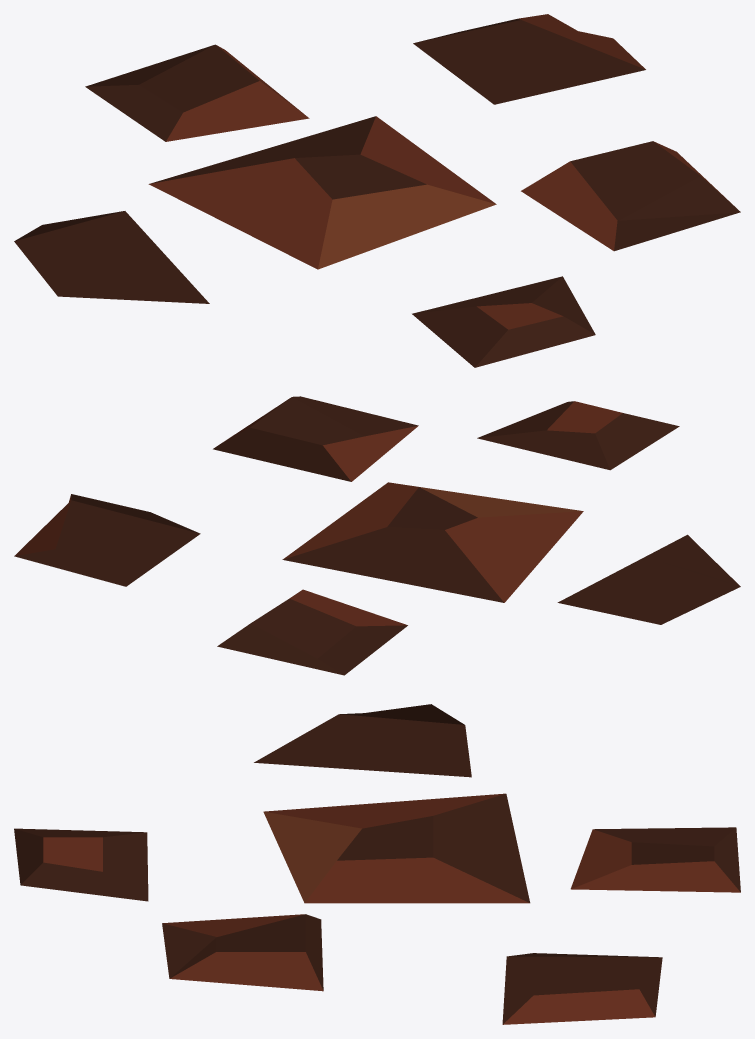
Rendered from RandomRock.fbx.
3 renders of one model, top to bottom at view 1: azimuth 30°, elevation 25°; view 2: azimuth 150°, elevation 25°; view 3: azimuth 270°, elevation 25°, orthographic. The views are drawn at different scales.
Visible parts, largest first — view 1: Stones; view 2: Stones; view 3: Stones.
Part boxes in pixels (x1,y1,x2,y2): Stones: (14,14,740,367); Stones: (14,396,740,675); Stones: (14,704,740,1024).
Bounding box in the file's own units: 672 × 33.85 × 669.
